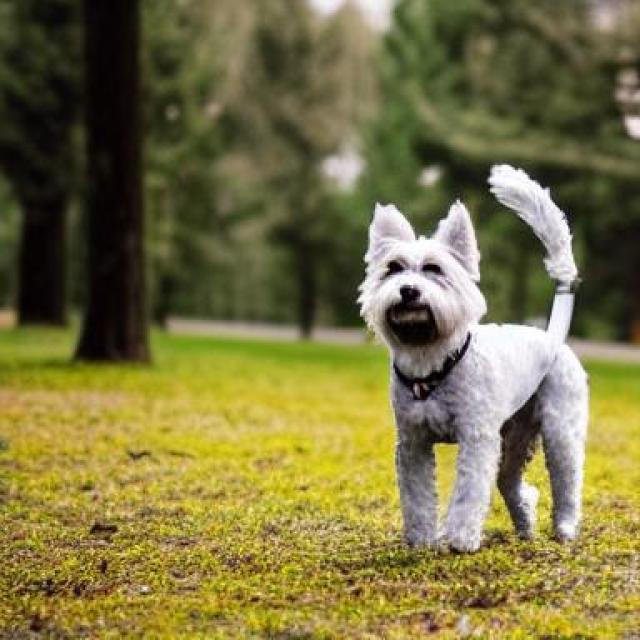Dog: (356, 164, 590, 553)
